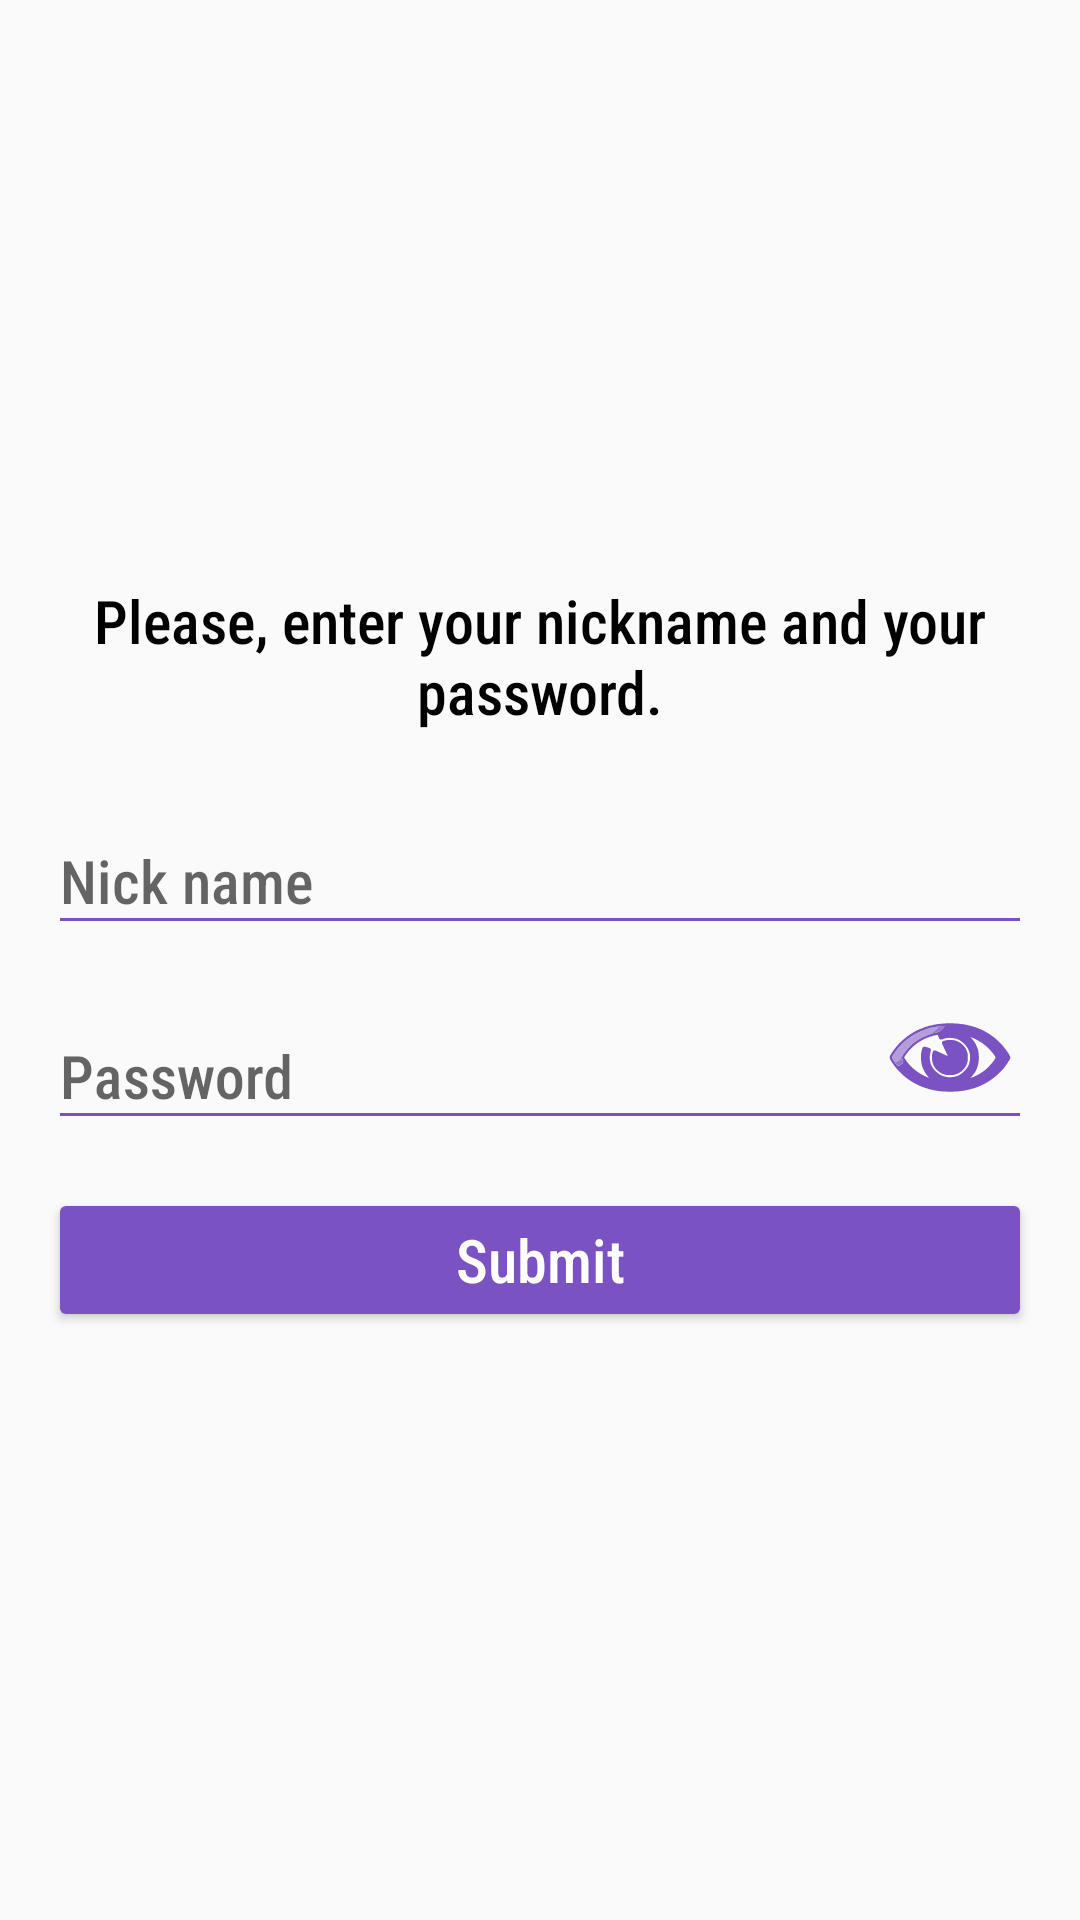

Screen size 1080 x 1920. Icon name, then its center in pixels as point (x, y):
eye paswd: point (950, 1057)
